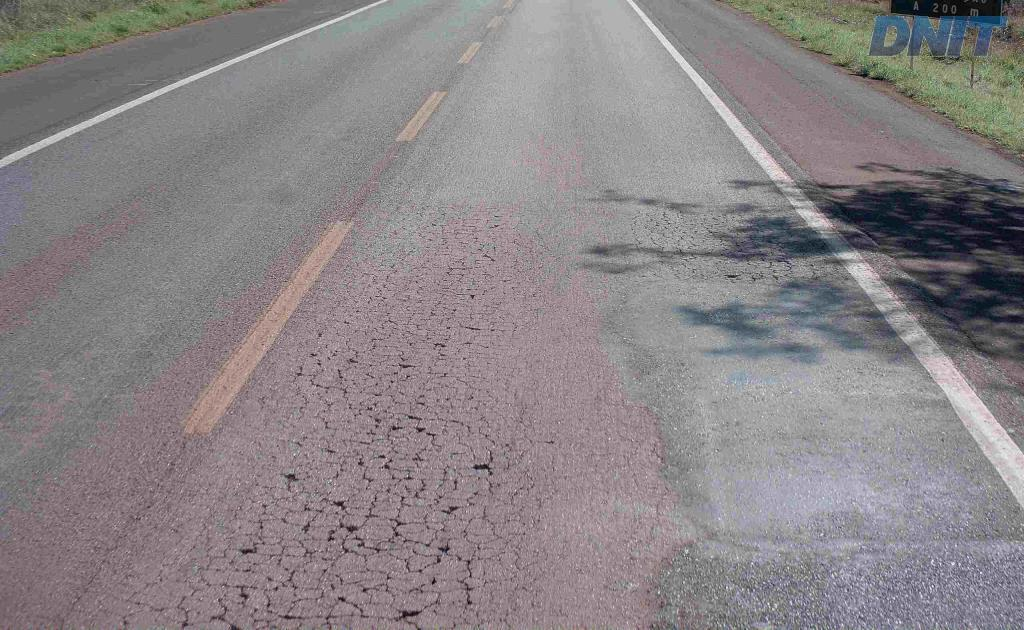crack: (319, 489, 438, 574), (412, 527, 480, 618), (260, 586, 372, 629), (328, 570, 398, 607), (387, 590, 441, 629)
